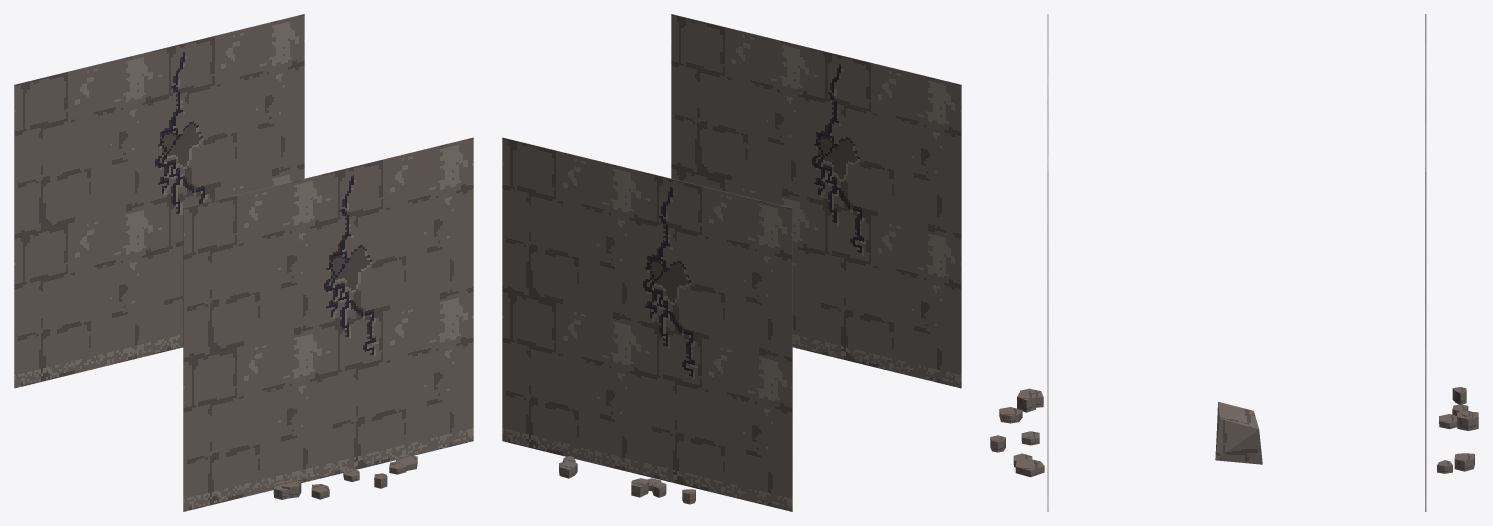
File: cracked_wall_b.glb
3 views of the same model, side by side, from view 1: azimuth 30°, elevation 25°; view 2: azimuth 150°, elevation 25°; view 3: azimuth 270°, elevation 25° (orthographic). The views are drawn at different scales.
Visible parts, largest first — view 1: panel_front, panel_back, debris_front; view 2: panel_back, panel_front, debris_back; view 3: chunk, debris_front, debris_back, panel_back, panel_front.
Boxes of the visible parts, x1,y1,x2,y2 form: panel_front: [183, 137, 473, 511]; panel_back: [14, 14, 304, 388]; debris_front: [273, 454, 417, 499]; panel_back: [502, 137, 792, 511]; panel_front: [671, 14, 961, 388]; debris_back: [559, 455, 695, 504]; chunk: [1215, 402, 1262, 464]; debris_front: [990, 388, 1044, 477]; debris_back: [1437, 387, 1478, 473]; panel_back: [1425, 14, 1426, 511]; panel_front: [1047, 14, 1048, 511].
Bounding box in the file's own units: 2 × 2.14 × 2.61.
Materials: 1 (1 with a texture image).
